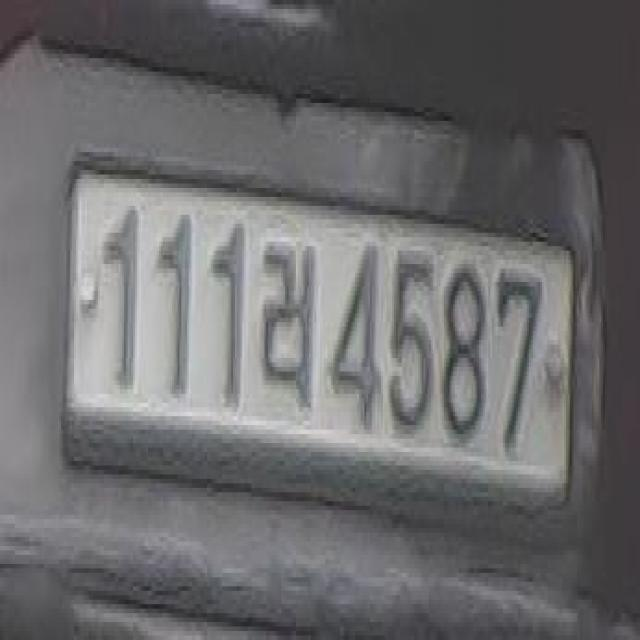illegal_plate: (61, 150, 572, 540)
